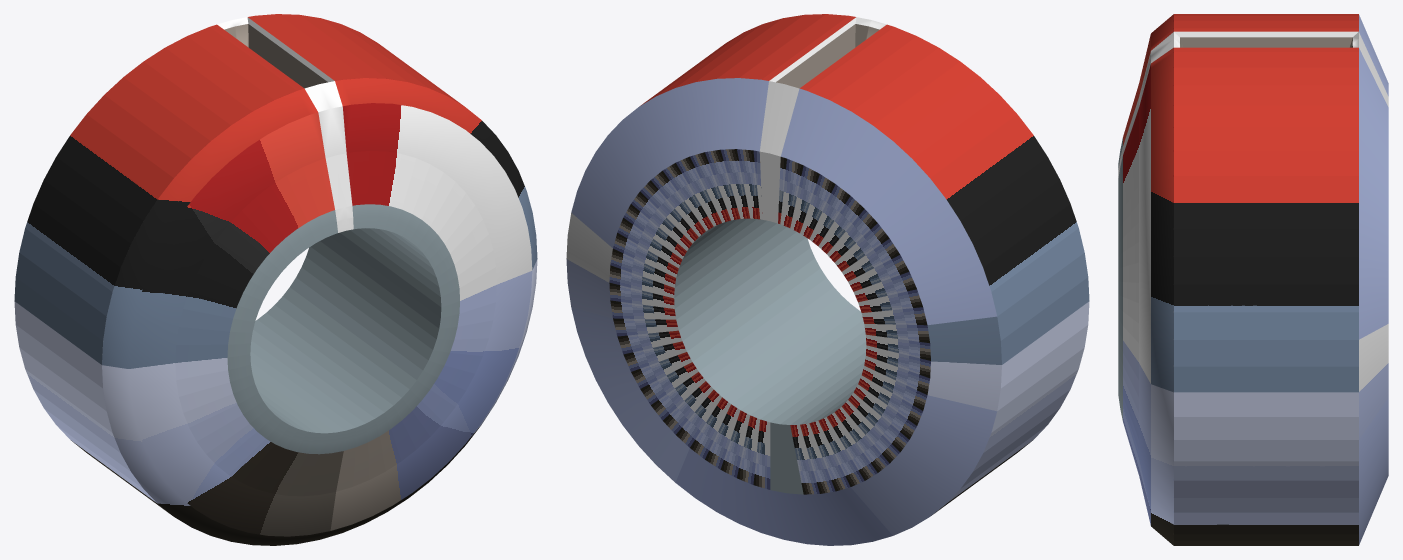
The model's file is Lock.fbx.
The picture shows the model from 3 angles, left to right: view 1: azimuth 30°, elevation 25°; view 2: azimuth 150°, elevation 25°; view 3: azimuth 270°, elevation 25°; orthographic projection. The views are drawn at different scales.
Visible parts, largest first — view 1: pCylinder26; view 2: pCylinder26; view 3: pCylinder26.
Boxes of the visible parts, bbox=[...] form: pCylinder26: bbox=[14, 14, 537, 545]; pCylinder26: bbox=[566, 14, 1089, 545]; pCylinder26: bbox=[1118, 14, 1388, 545].
Bounding box in the file's own units: 2 × 2 × 1.02.
